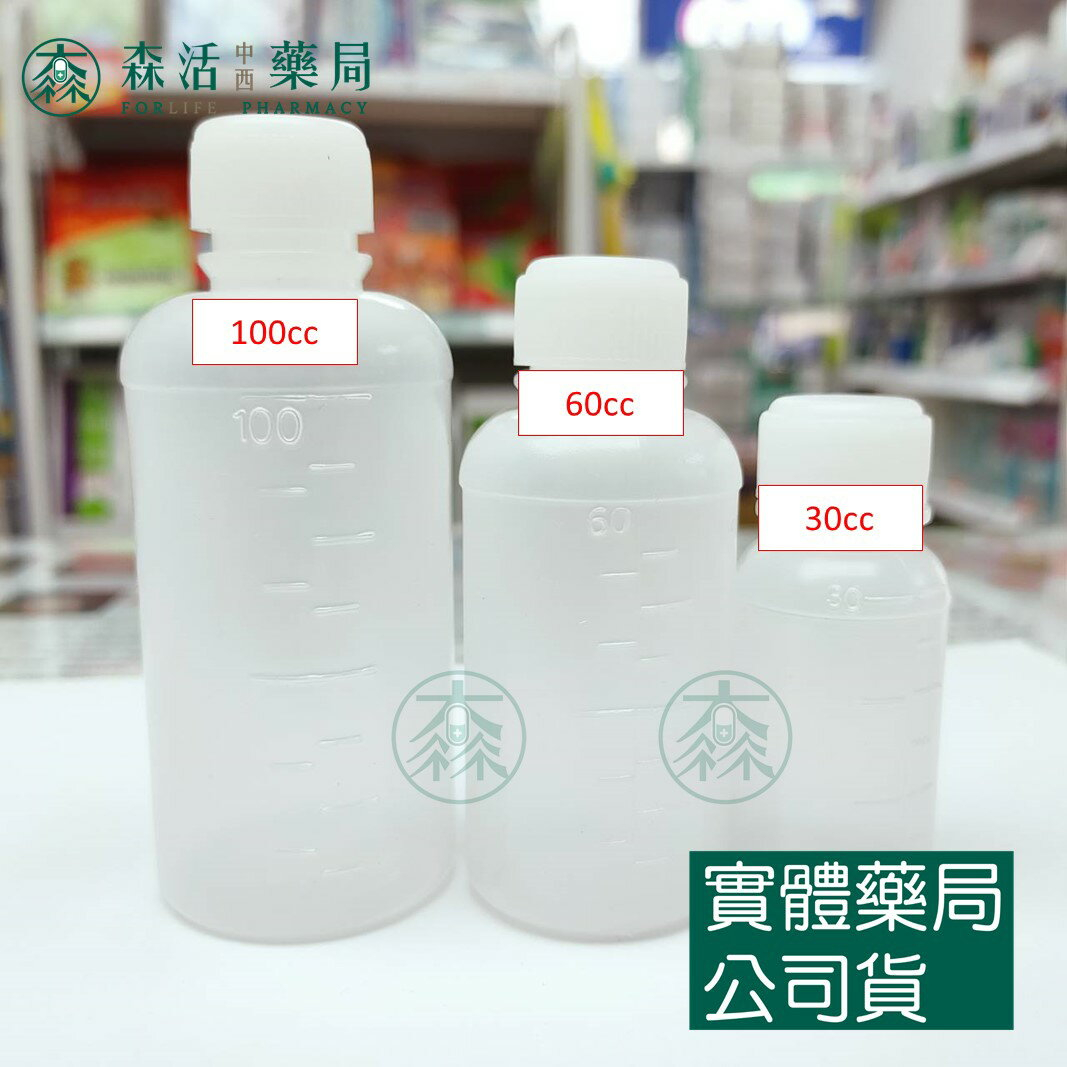medicinejar: (134, 113, 464, 946), (448, 233, 743, 949), (743, 397, 946, 858)
